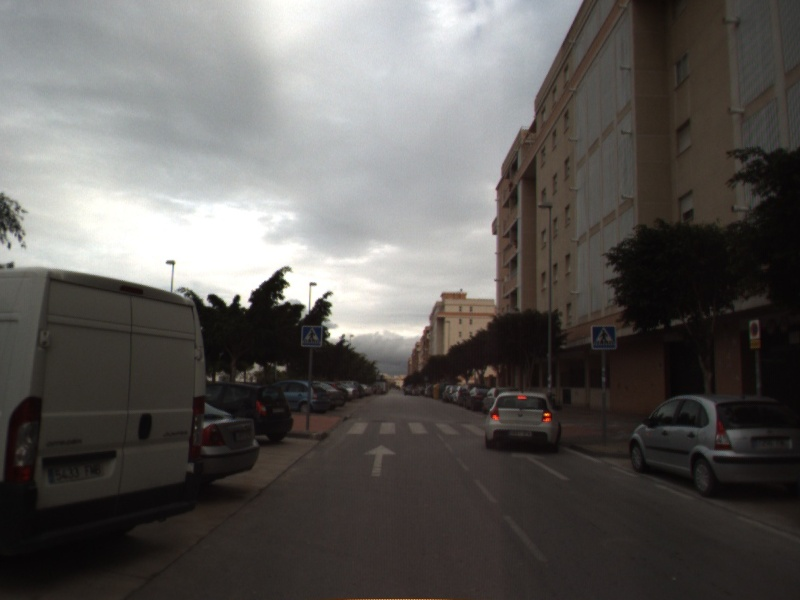STRAIGHT: (509, 451, 573, 482), (362, 442, 399, 478)
